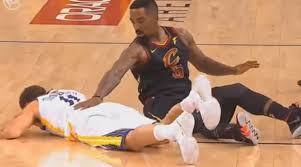fall: (69, 5, 301, 141)
